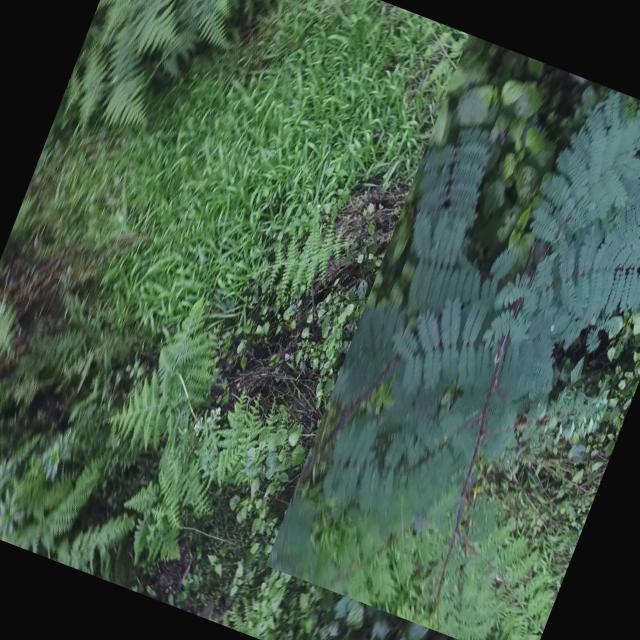Mysore-Thorn-Weed: (265, 34, 640, 640)
